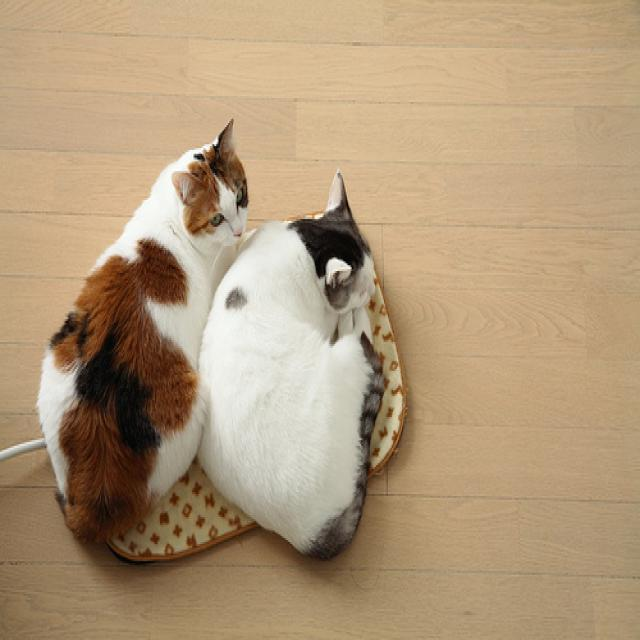left eye: (233, 184, 246, 210)
